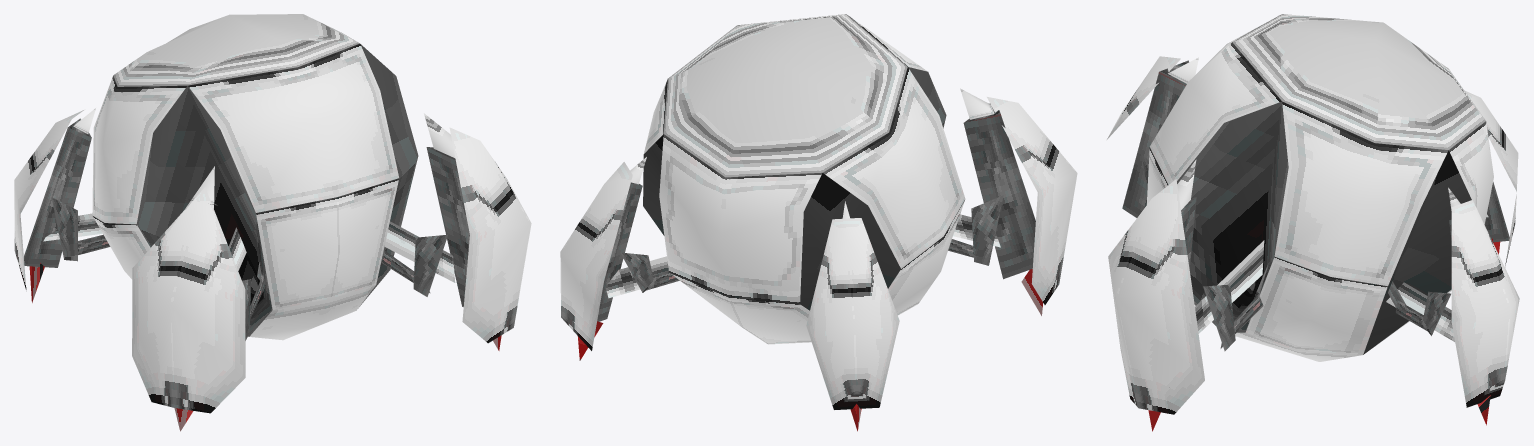
File: ps2_save-icons_kenranbutousai.glb
The picture shows the model from 3 angles, left to right: view 1: azimuth 30°, elevation 25°; view 2: azimuth 150°, elevation 25°; view 3: azimuth 270°, elevation 25°; orthographic projection. The views are drawn at different scales.
Parts seen in each view (by area): view 1: static.ico; view 2: static.ico; view 3: static.ico.
Boxes of the visible parts, x1,y1,x2,y2 form: static.ico: (14, 14, 531, 431); static.ico: (560, 14, 1077, 431); static.ico: (1107, 14, 1519, 431).
Size of the model in its own units: 4.66 by 3.72 by 4.34.
1 material, 1 textured.
